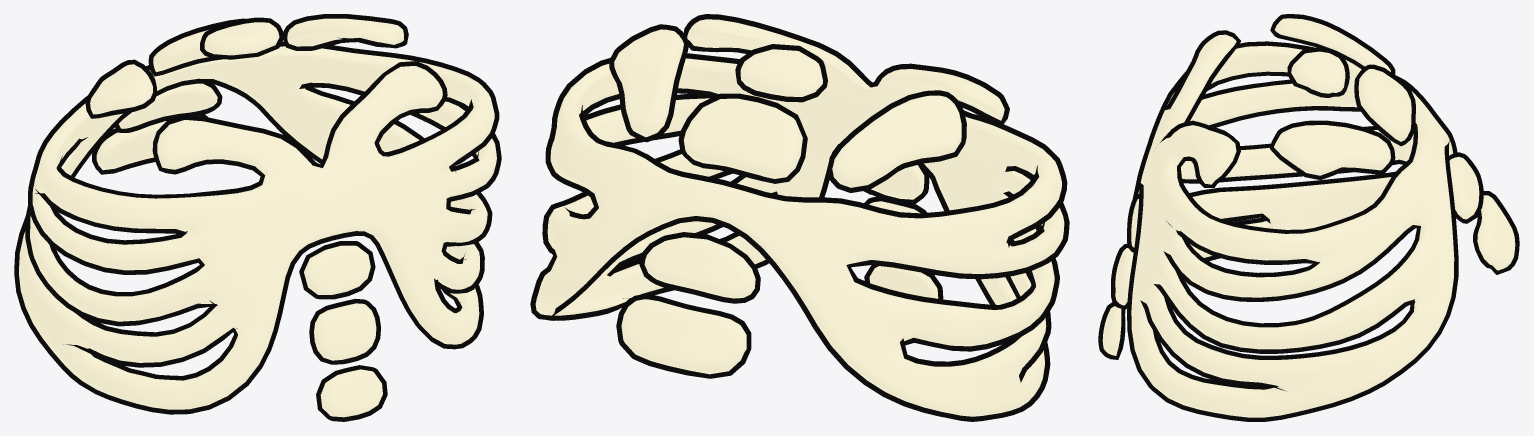
Rendered from TORSO.BIOLOGY.SKELETON.glb.
The picture shows the model from 3 angles, left to right: view 1: azimuth 30°, elevation 25°; view 2: azimuth 150°, elevation 25°; view 3: azimuth 270°, elevation 25°; orthographic projection. The views are drawn at different scales.
Visible parts, largest first — view 1: TORSO.BIOLOGY.SKELETON; view 2: TORSO.BIOLOGY.SKELETON; view 3: TORSO.BIOLOGY.SKELETON.
Part boxes in pixels (x1,y1,x2,y2): TORSO.BIOLOGY.SKELETON: (14,14,501,421); TORSO.BIOLOGY.SKELETON: (530,14,1069,421); TORSO.BIOLOGY.SKELETON: (1098,14,1519,421).
Bounding box in the file's own units: 1.07 × 0.7316 × 0.9424.
